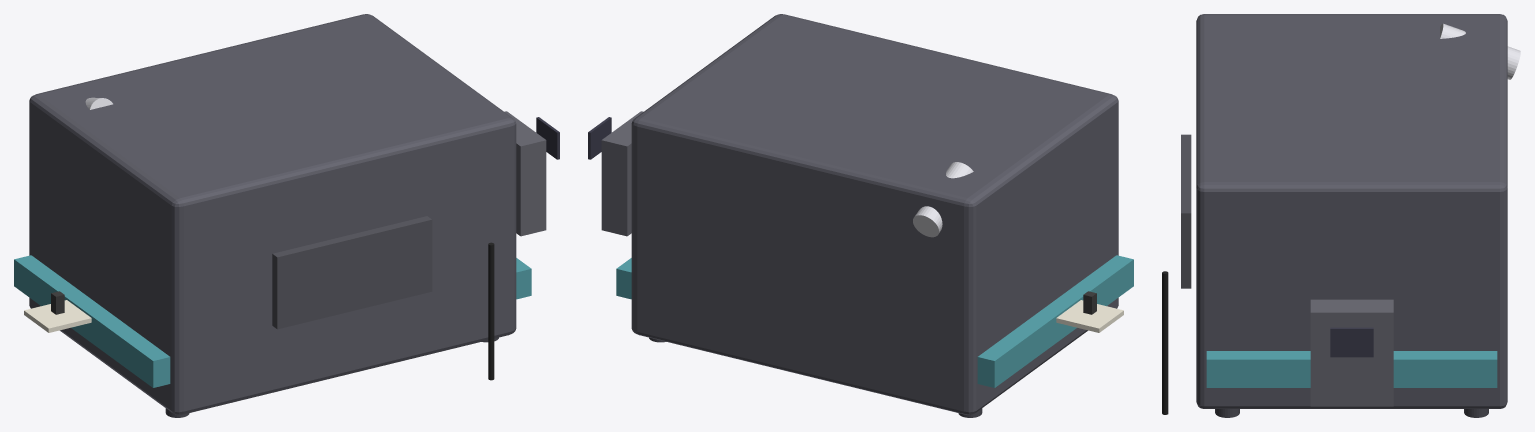
File: dijital.fbx
The picture shows the model from 3 angles, left to right: view 1: azimuth 30°, elevation 25°; view 2: azimuth 150°, elevation 25°; view 3: azimuth 270°, elevation 25°; orthographic projection. The views are drawn at different scales.
Parts seen in each view (by area): view 1: Ana_Makine_Kasasi, Arka_Baglanti_Panel, Konveyor_Bant, Kontrol_Paneli, Karo_1, Elektrik_Kablosu, Dokunmatik_Ekran; view 2: Ana_Makine_Kasasi, Konveyor_Bant, Kontrol_Paneli, Karo_1, Hava_Cikis_Borusu, Dokunmatik_Ekran; view 3: Ana_Makine_Kasasi, Kontrol_Paneli, Konveyor_Bant, Arka_Baglanti_Panel, Dokunmatik_Ekran, Elektrik_Kablosu, Hava_Cikis_Borusu.
Part boxes in pixels (x1,y1,x2,y2): Ana_Makine_Kasasi: [29, 14, 516, 414]; Arka_Baglanti_Panel: [272, 216, 432, 329]; Konveyor_Bant: [14, 255, 531, 387]; Kontrol_Paneli: [504, 111, 546, 236]; Karo_1: [24, 300, 91, 332]; Elektrik_Kablosu: [488, 242, 494, 380]; Dokunmatik_Ekran: [536, 117, 559, 159]; Ana_Makine_Kasasi: [631, 14, 1118, 414]; Konveyor_Bant: [616, 255, 1133, 387]; Kontrol_Paneli: [601, 111, 643, 236]; Karo_1: [1056, 300, 1123, 332]; Hava_Cikis_Borusu: [913, 162, 973, 237]; Dokunmatik_Ekran: [588, 117, 611, 159]; Ana_Makine_Kasasi: [1196, 14, 1507, 408]; Kontrol_Paneli: [1310, 299, 1393, 406]; Konveyor_Bant: [1206, 351, 1497, 387]; Arka_Baglanti_Panel: [1181, 134, 1191, 288]; Dokunmatik_Ekran: [1330, 327, 1373, 357]; Elektrik_Kablosu: [1162, 271, 1168, 414]; Hava_Cikis_Borusu: [1440, 23, 1520, 79].
Bounding box in the file's own units: 5.97 × 2.73 × 3.46.
